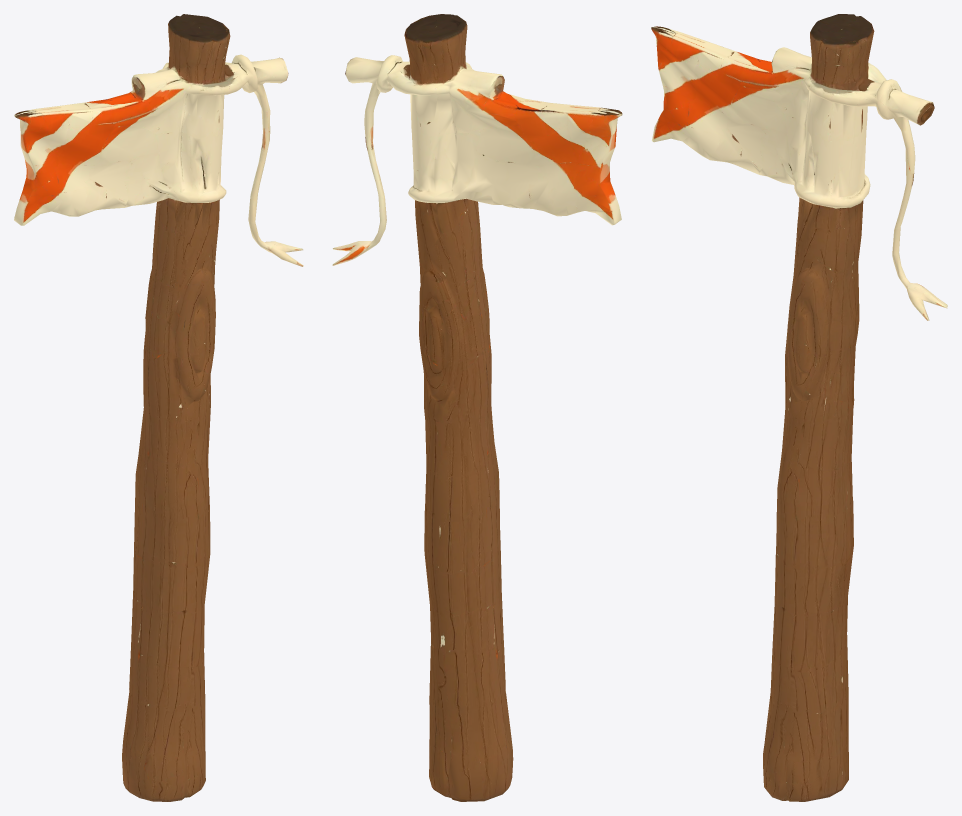
The model's file is cloth_flag_tattered.glb.
3 renders of one model, left to right at view 1: azimuth 30°, elevation 25°; view 2: azimuth 150°, elevation 25°; view 3: azimuth 330°, elevation 25°, orthographic. The views are drawn at different scales.
Bounding box in the file's own units: 0.7615 × 1.9 × 0.2076.
Materials: 1 (1 with a texture image).
